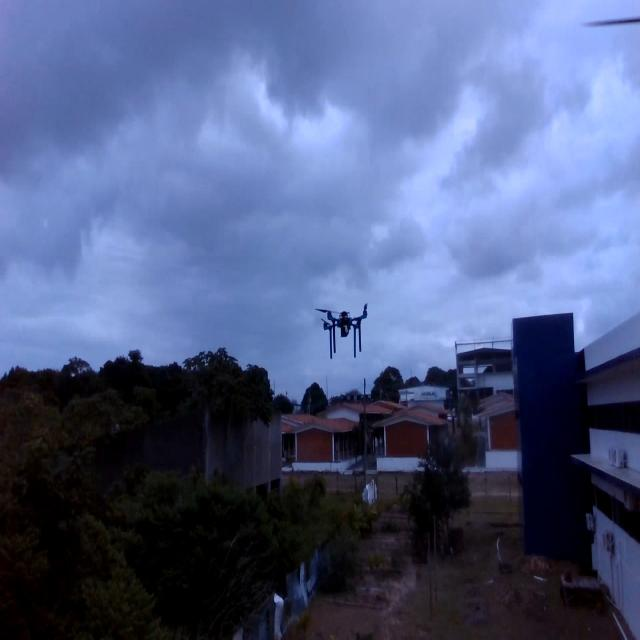-uav-: (307, 289, 373, 364)
